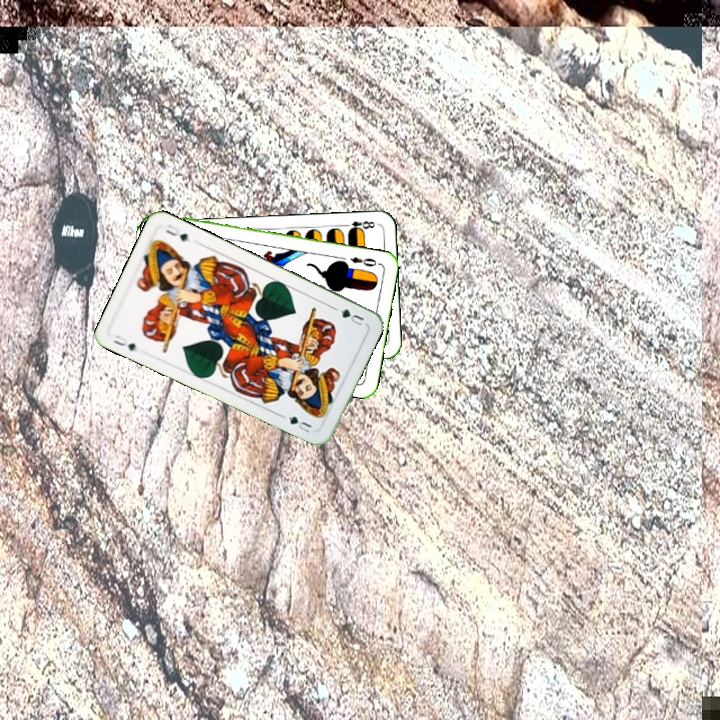E8: (339, 217, 377, 235)
EO: (346, 253, 382, 269)
GU: (335, 305, 367, 328), (109, 331, 138, 354)
